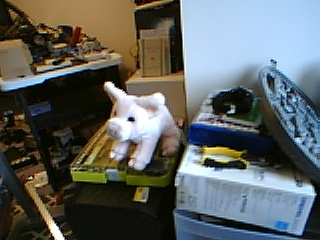piggy: (100, 79, 185, 172)
